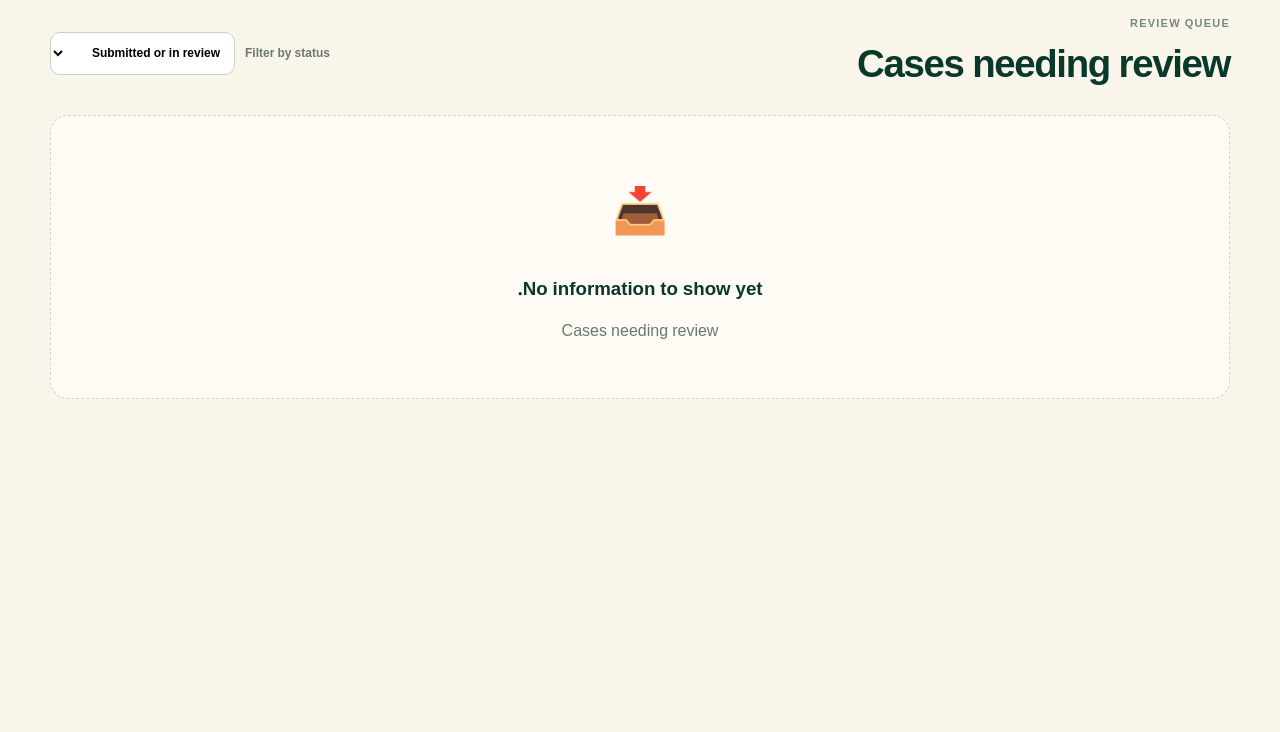
Scenario: officer case status actions › explains why an ineligible case cannot be rejected
The image size is (1280, 732).
Select "More information needed" in the dropdown labelled "Filter by status": (142, 53) [50,32,235,75]
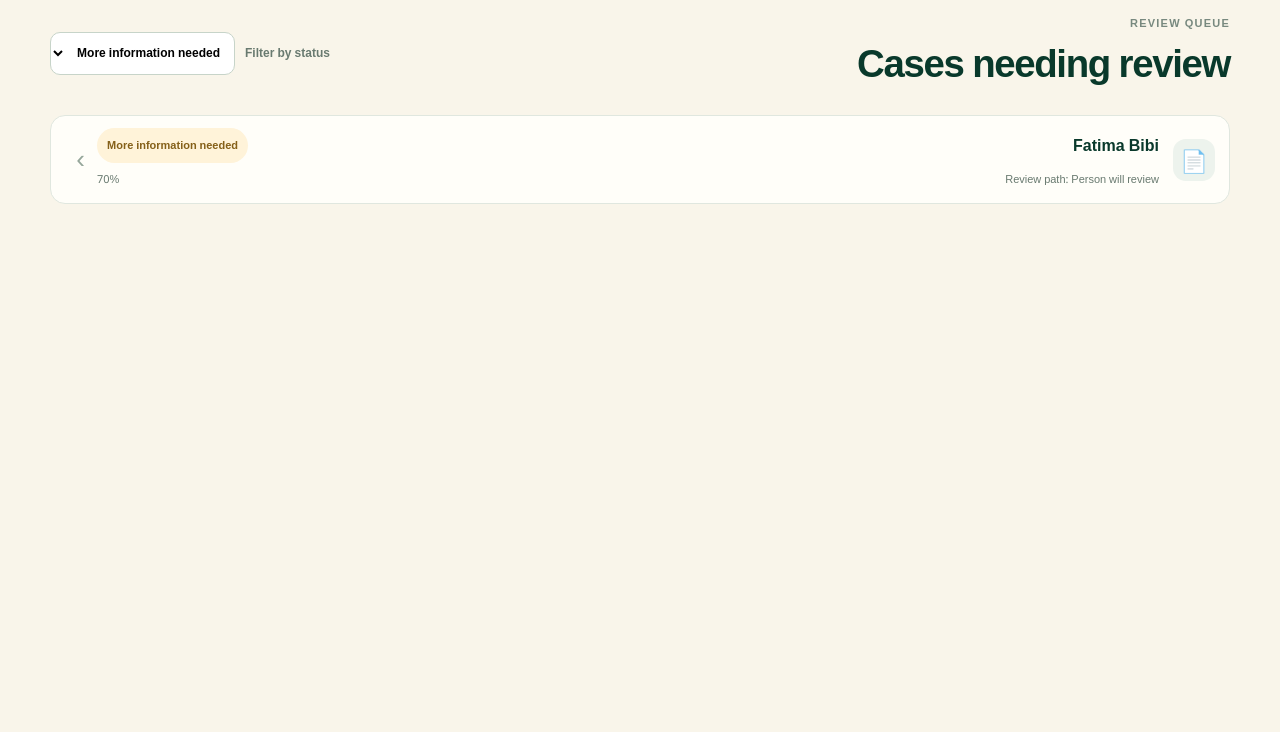
Click the button "Fatima Bibi": (1194, 160) [50,115,1230,204]
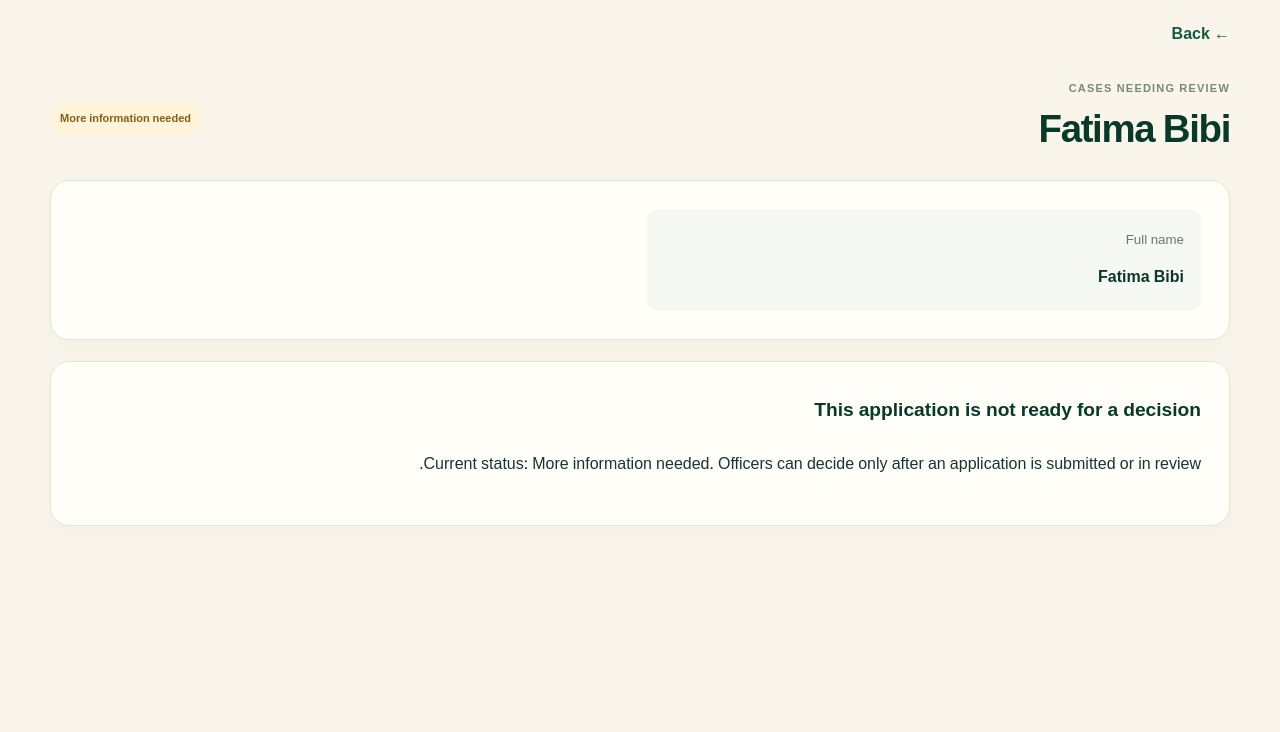
Check: the heading "This application is not ready for a decision" is shown, box [814,390,1201,430]
Check: the text "Current status: More information needed" is shown, box [419,447,1201,481]
